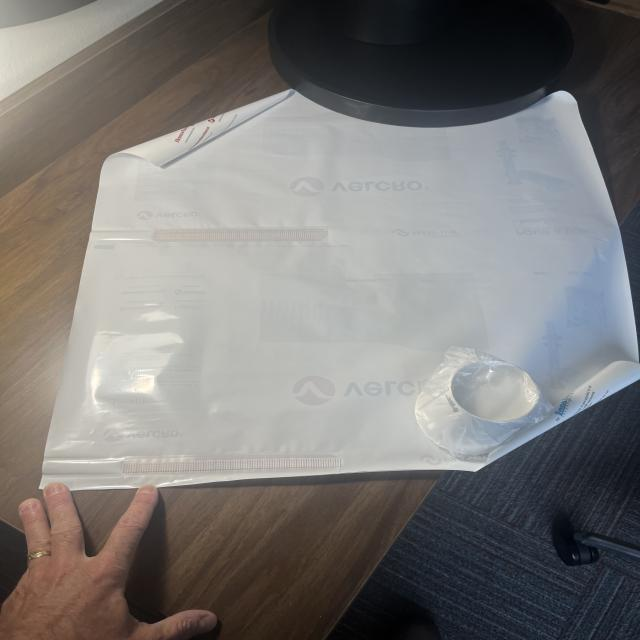zip_s: (121, 451, 342, 479), (153, 226, 329, 242)
